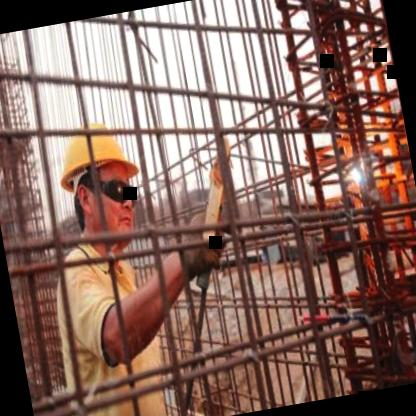helmet: (52, 116, 151, 262)
